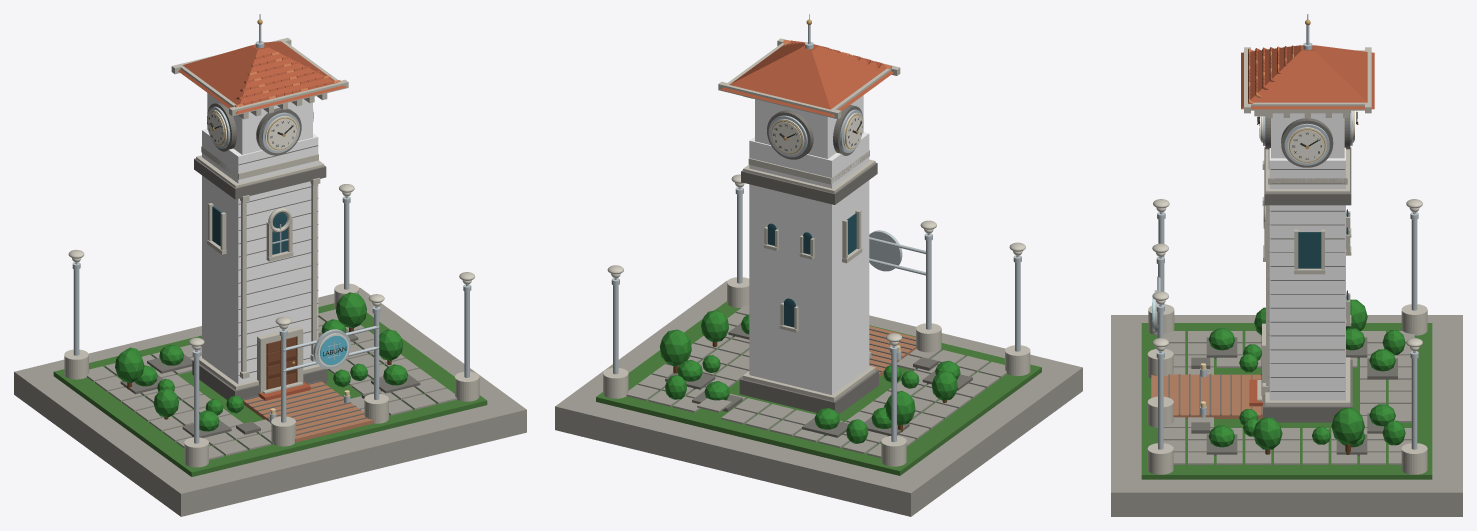
The model's file is Labuan_Clock_Tower.gltf.
3 renders of one model, left to right at view 1: azimuth 30°, elevation 25°; view 2: azimuth 150°, elevation 25°; view 3: azimuth 270°, elevation 25°, orthographic. The views are drawn at different scales.
Parts seen in each view (by area): view 1: AR_Display_Base, Main tower shaft, Ground_Grass, Broad terracotta hip roof, Brick_Path, Clock chamber, Upper dark cornice, Tower base plinth, Front corner pilaster.001, Front corner pilaster, Tree_1_Crown, Tree_0_Crown (+13 smaller); view 2: AR_Display_Base, Main tower shaft, Ground_Grass, Broad terracotta hip roof, Tower base plinth, Clock chamber, Upper dark cornice, Brick_Path, Labuan sign outer ring, Plinth top moulding, Tree_1_Crown, Clock chamber lower trim (+11 smaller); view 3: AR_Display_Base, Main tower shaft, Ground_Grass, Broad terracotta hip roof, Brick_Path, Clock chamber, Tower base plinth, Upper dark cornice, Tree_1_Crown, Side window glass, Clock face inset.001, Plinth top moulding (+23 smaller).
Part boxes in pixels (x1,y1,x2,y2): AR_Display_Base: (14,287,526,516); Main tower shaft: (202,129,318,384); Ground_Grass: (53,303,487,476); Broad terracotta hip roof: (178,41,346,114); Brick_Path: (243,381,373,442); Clock chamber: (207,93,312,154); Upper dark cornice: (194,158,326,199); Tower base plinth: (192,360,327,399); Front corner pilaster.001: (311,184,317,354); Front corner pilaster: (241,201,246,371); Tree_1_Crown: (336,292,366,328); Tree_0_Crown: (115,349,144,382); AR_Display_Base: (555,280,1082,516); Main tower shaft: (749,132,869,394); Ground_Grass: (596,301,1041,475); Broad terracotta hip roof: (720,42,893,116); Tower base plinth: (739,370,878,414); Clock chamber: (755,95,863,158); Upper dark cornice: (741,163,877,204); Brick_Path: (869,326,916,377); Labuan sign outer ring: (869,230,902,271); Plinth top moulding: (743,366,875,401); Tree_1_Crown: (659,329,691,366); Clock chamber lower trim: (748,150,869,184); AR_Display_Base: (1111,315,1462,516); Main tower shaft: (1269,147,1345,400); Ground_Grass: (1141,323,1432,479); Broad terracotta hip roof: (1241,45,1374,109); Brick_Path: (1151,374,1262,418); Clock chamber: (1271,113,1344,158); Tower base plinth: (1263,359,1352,422); Upper dark cornice: (1264,147,1351,205); Tree_1_Crown: (1331,408,1364,444); Side window glass: (1298,232,1321,268); Clock face inset.001: (1290,130,1324,161); Plinth top moulding: (1265,357,1350,406).
Bounding box in the file's own units: 11 × 11.93 × 9.2.
